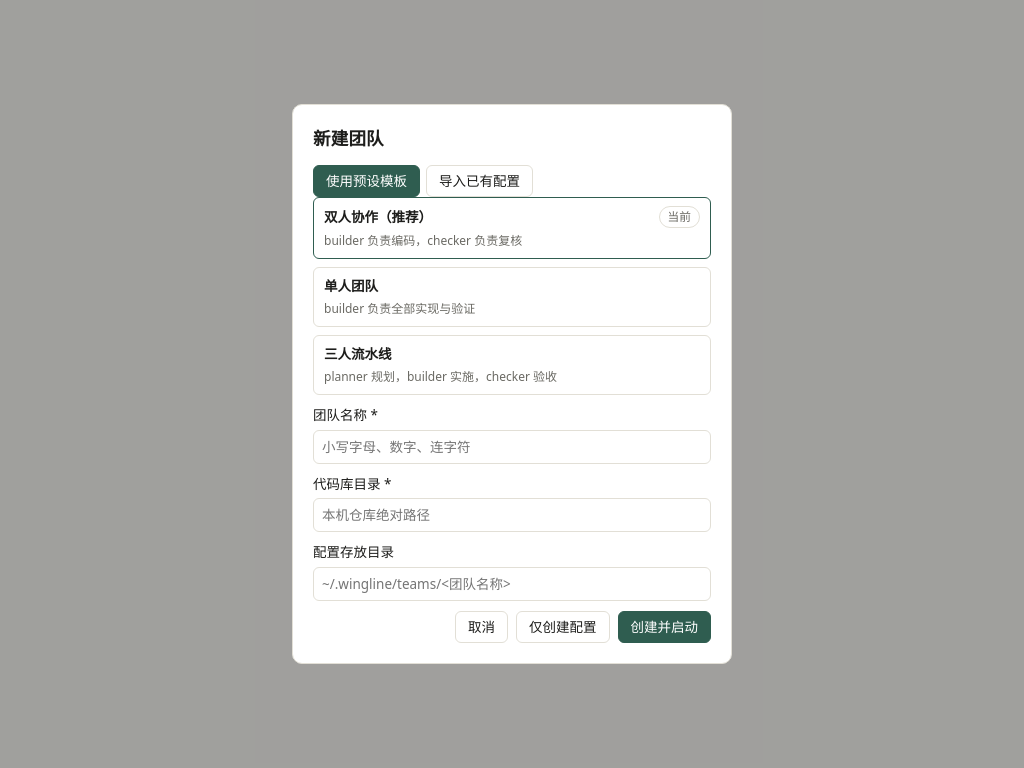
Scenario: 必填项校验：未填信息时不发请求并显示错误
Click the button "仅创建配置" at (563, 627), box [516,611,610,643]
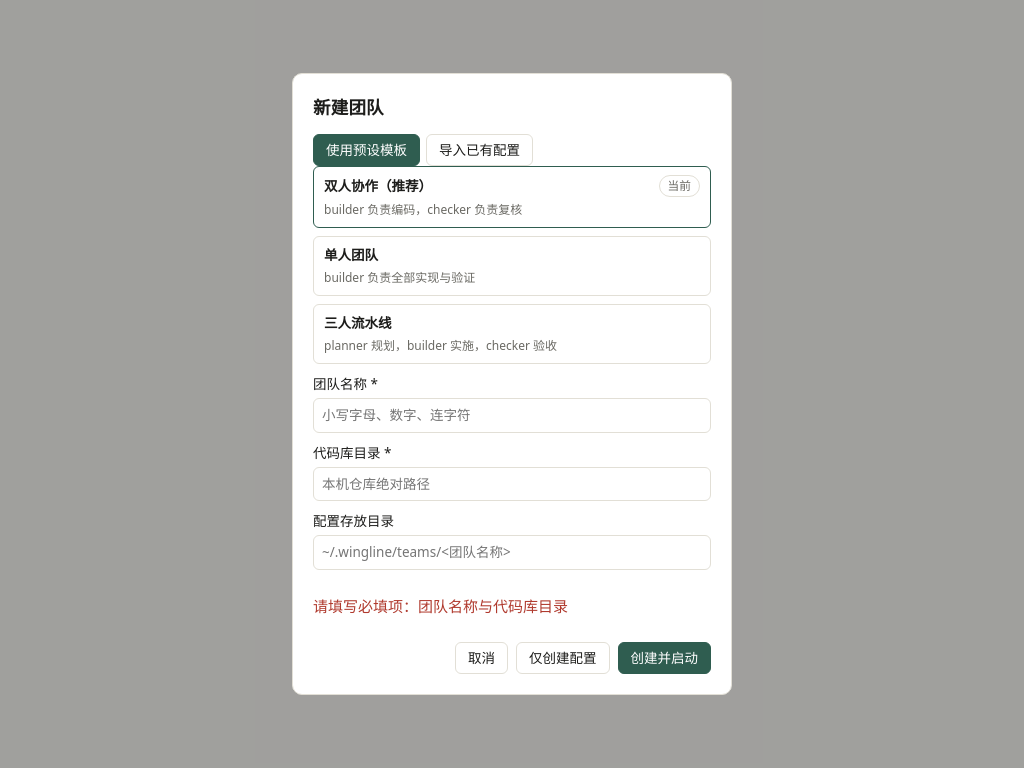
Result: the message shows "请填写必填项" at [313,596,568,616]
